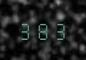eight: (35, 20, 50, 40)
three: (18, 20, 33, 40), (51, 20, 66, 40)
